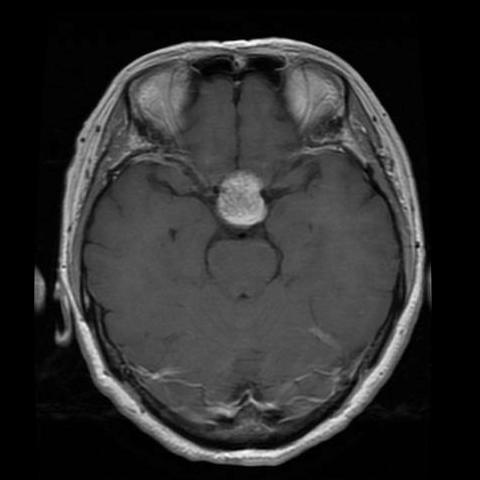Tumour-Pituitary: (215, 172, 271, 231)
